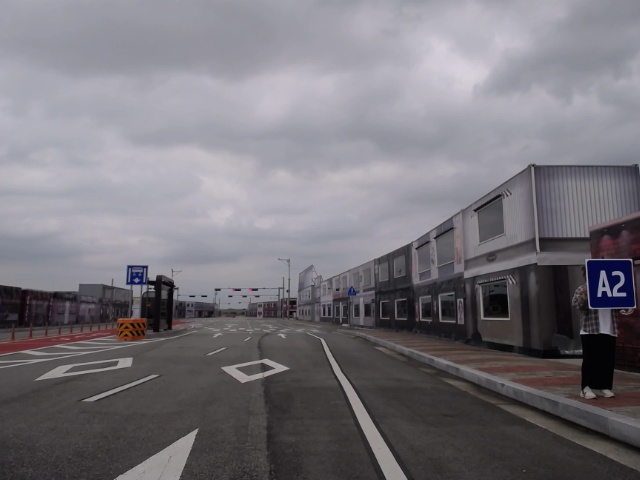delivery_a2: (585, 259, 636, 308)
